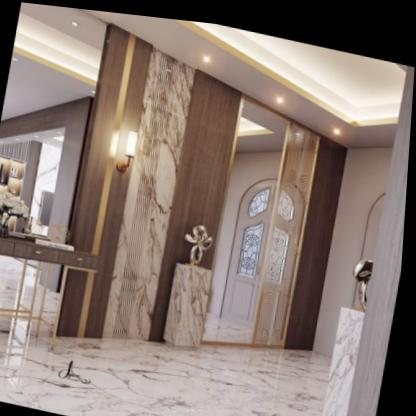Gypsum Board: (10, 1, 416, 132)
Wall Panel: (63, 22, 353, 344), (59, 335, 330, 416)
